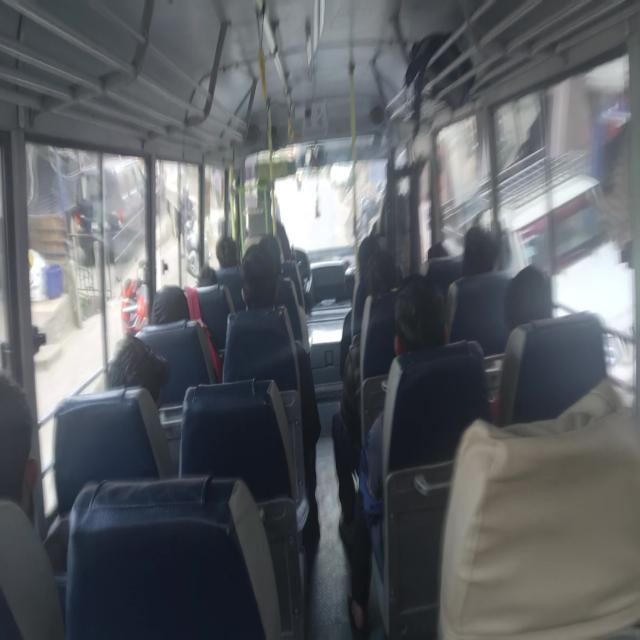person: (510, 278, 589, 378), (391, 276, 461, 388), (0, 352, 37, 546), (373, 255, 428, 344), (111, 331, 158, 418), (233, 249, 284, 321), (150, 276, 194, 336), (464, 219, 493, 289), (362, 236, 386, 287), (191, 266, 227, 299), (209, 236, 243, 269), (436, 207, 453, 267), (257, 245, 271, 278)
